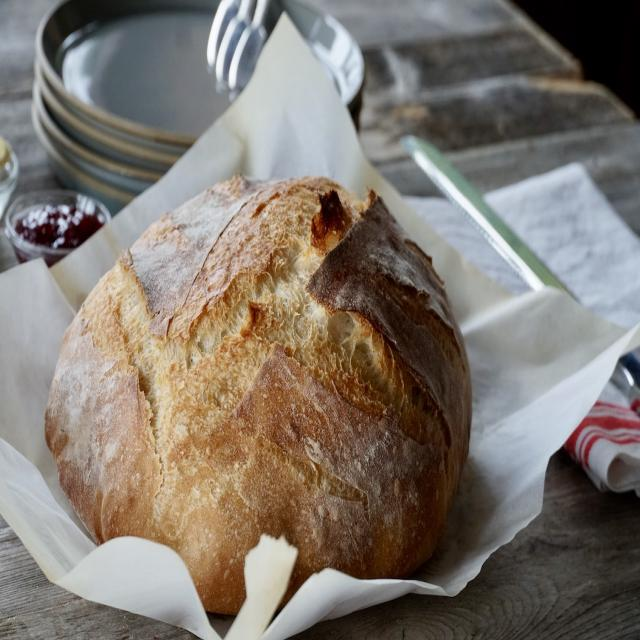Maltese-Bread: (46, 176, 471, 614)
